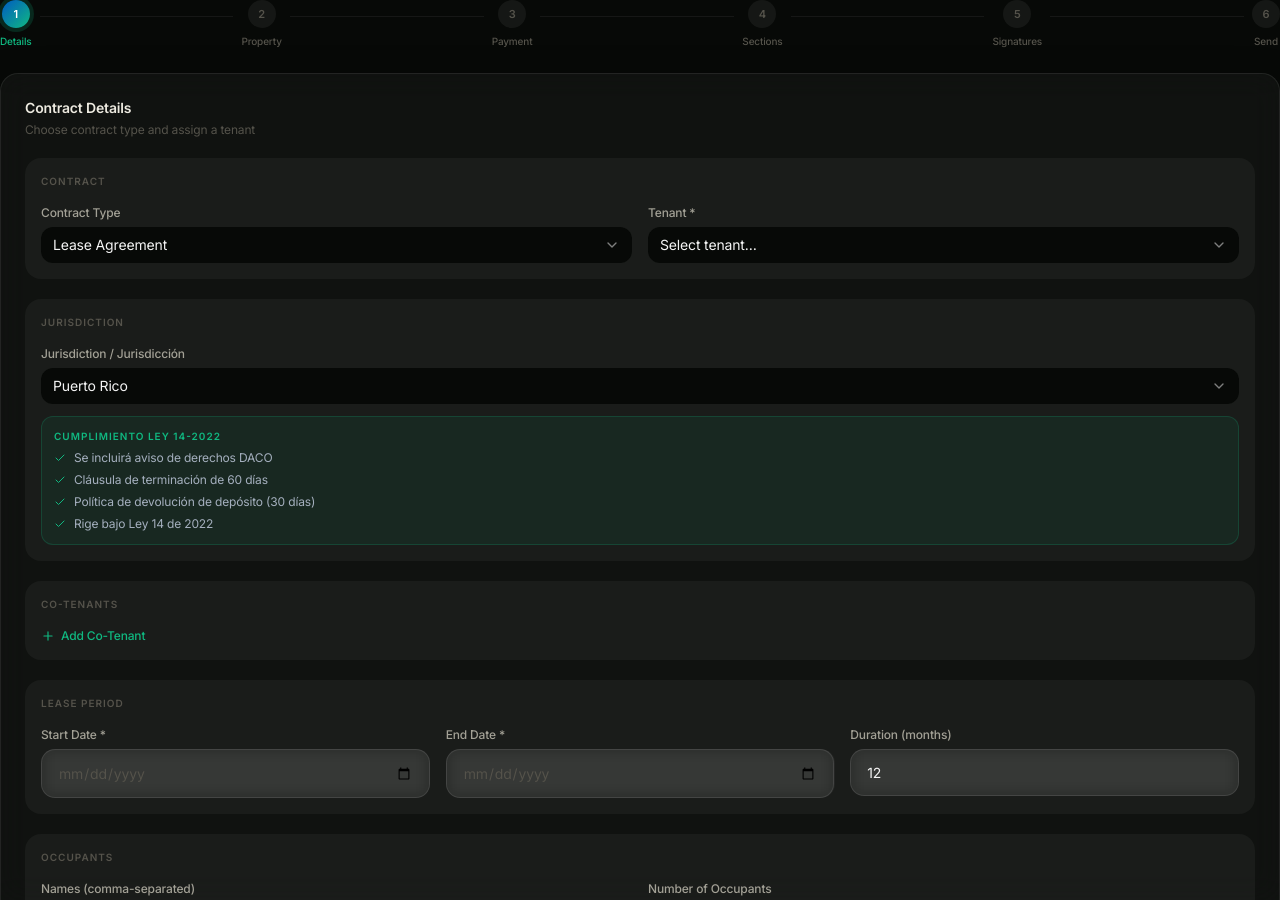
ContractBuilder step navigation › Back returns to step 0 from step 1
Click the button "2 Property". click: (262, 24)
box: 242,0 -> 282,49
(page scrolled)
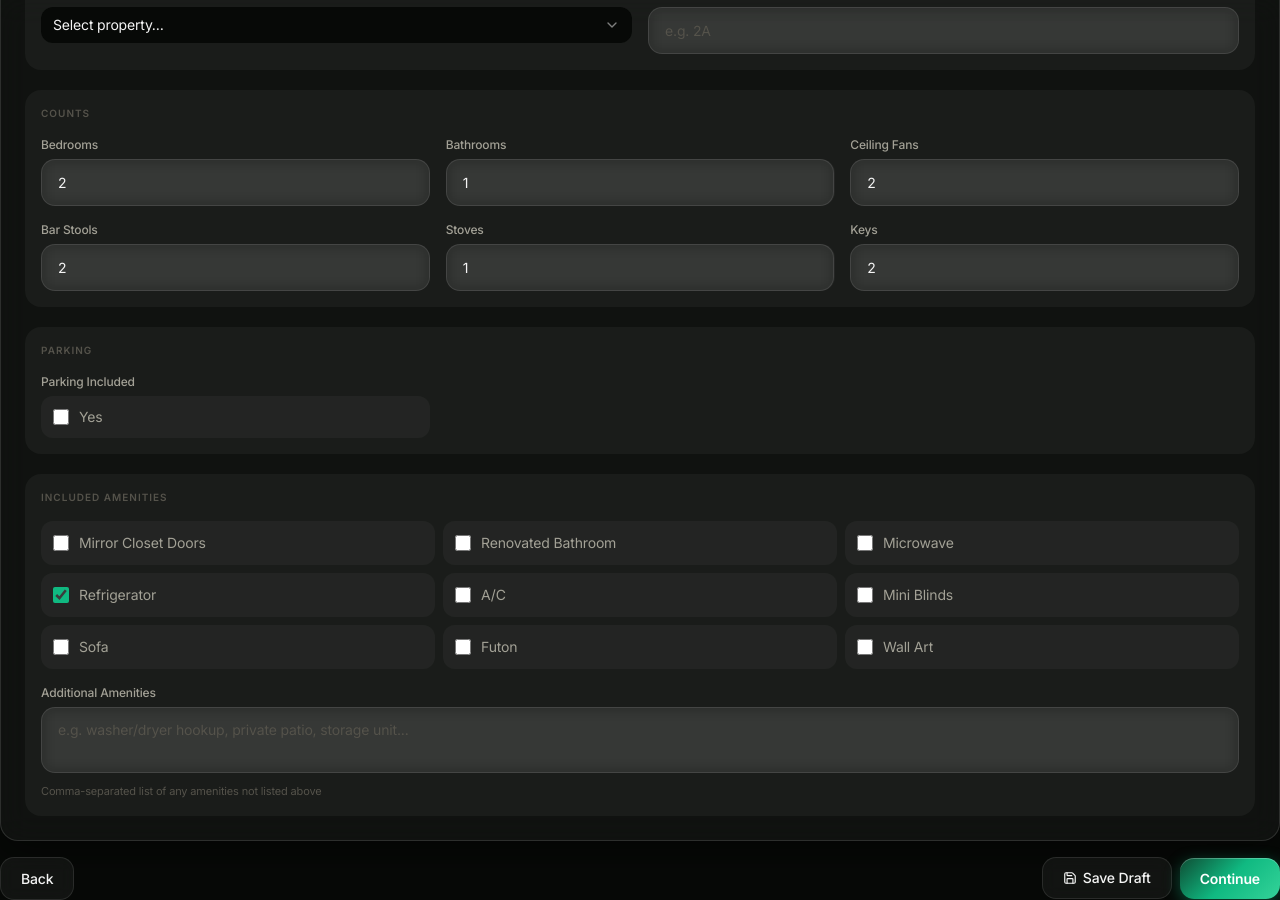
Click the button "Back". click: (37, 878)
box: 0,856 -> 74,899
(page scrolled)
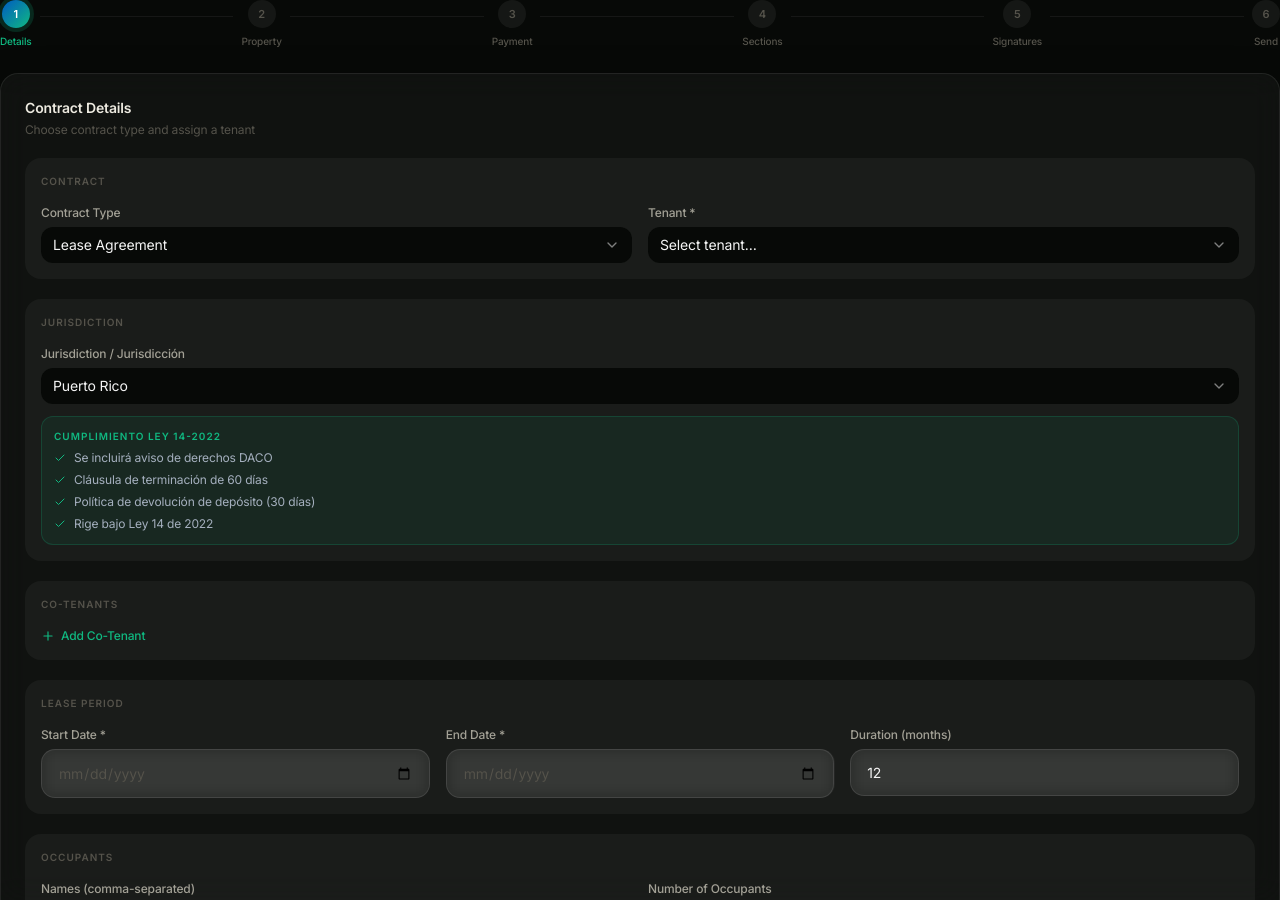
Now the text "Contract Details" is shown, box 25,99 -> 131,116
